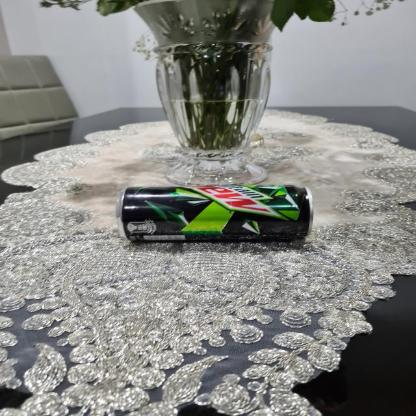Can: (112, 182, 318, 245)
